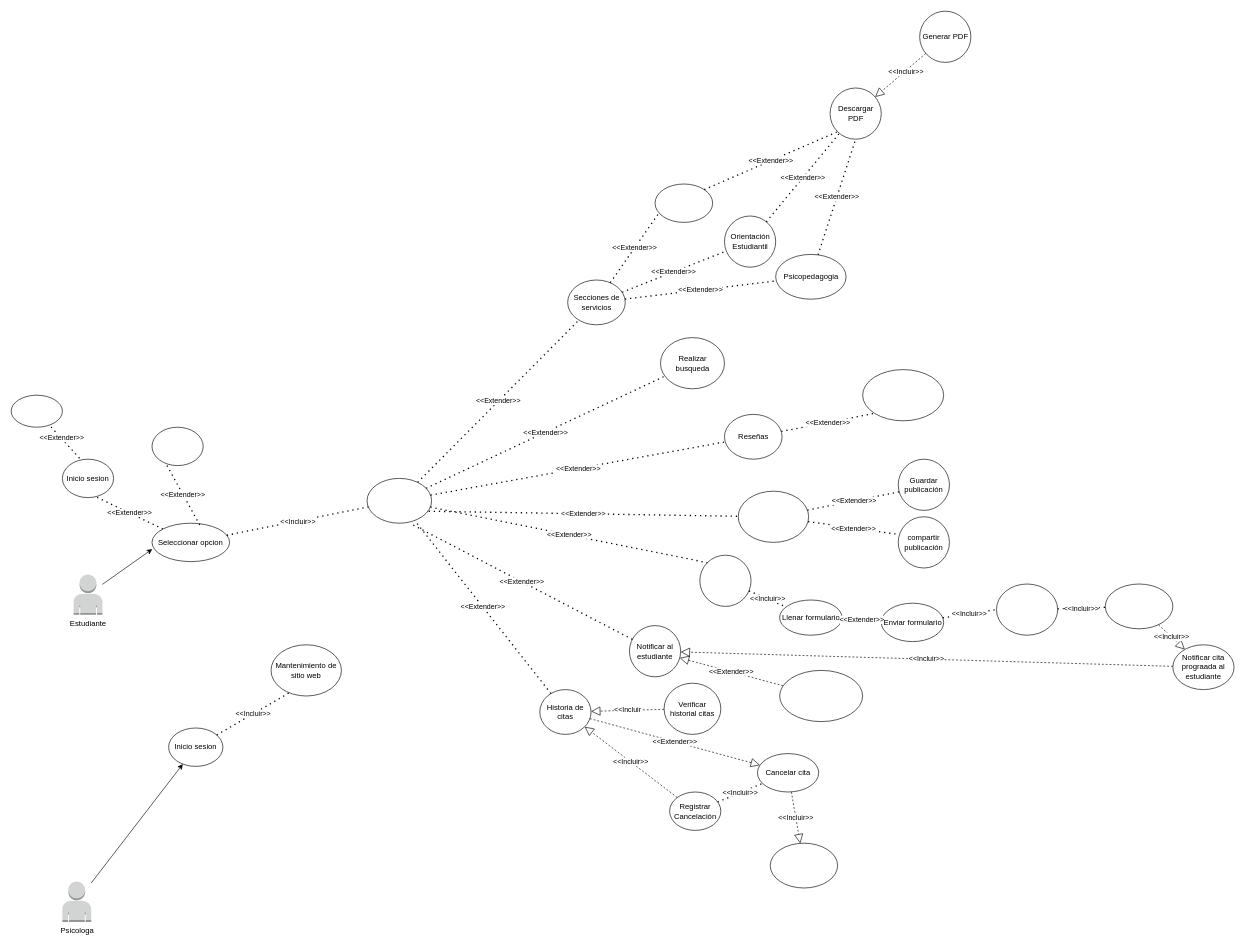
The diagram is 1245 pixels wide and 947 high, and some of its shapes have lost their labels. The shapes that lost their labels are listed below. From the top down, each one's centre as x and y in pixels, then its label:
[683,202]: Psicologia
[36,411]: Recuperar contraseña
[903,395]: Evaluar la sesión a través del sitio web
[177,446]: Registrarse
[399,500]: Pantalla de inicio
[773,516]: Visualizar publicaciones
[725,580]: Formulario de cita
[1027,609]: Verificar disponibilidad del psicólogo
[1139,606]: confirmar cita y registrar en el sistema
[821,696]: Enviar recordatorio de la cita(días antes)
[804,865]: Notificar a la psicólogo afectado
